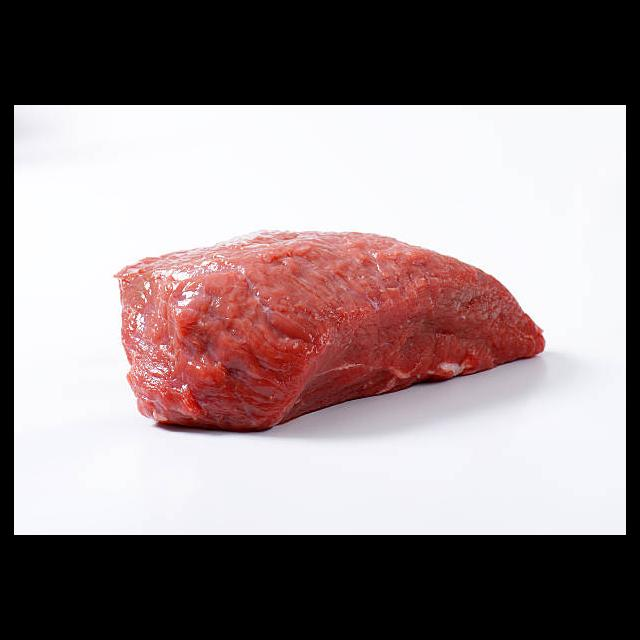beef: (114, 228, 547, 434)
